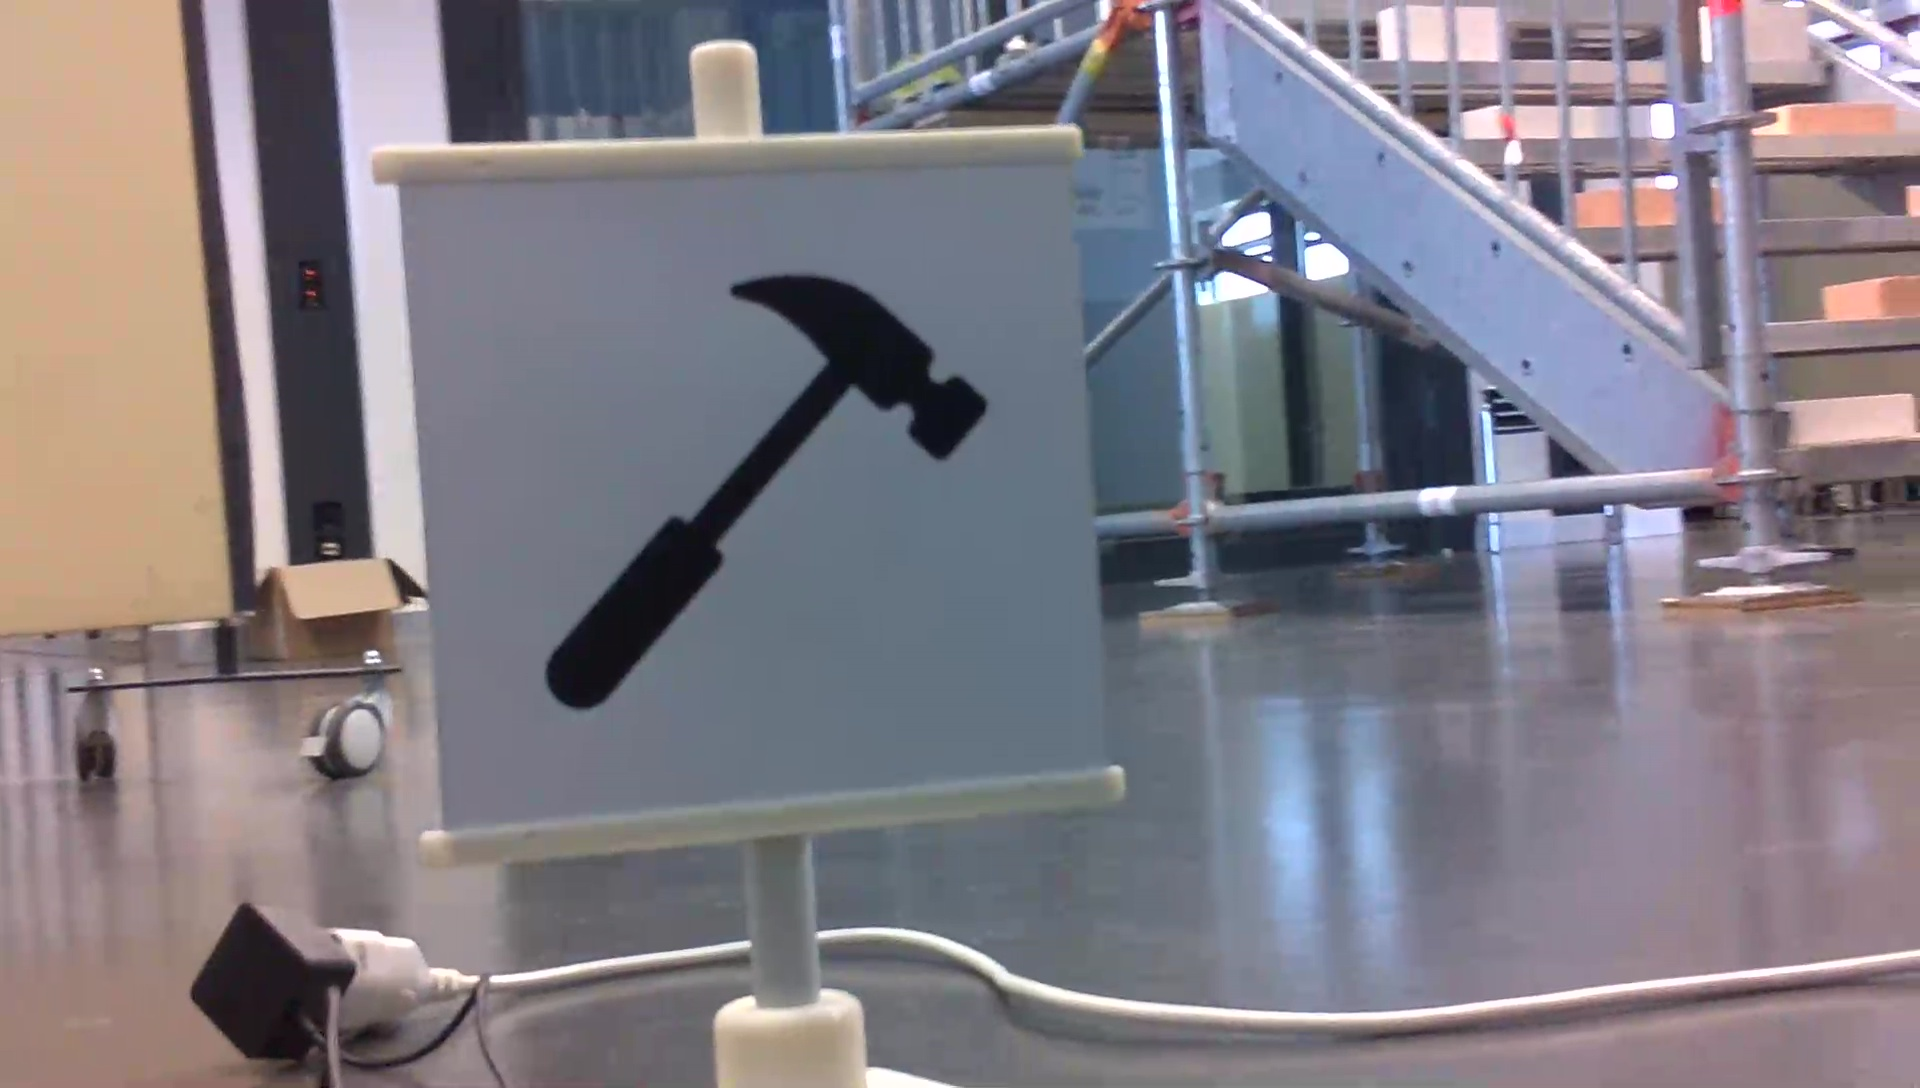brick: (1793, 398, 1909, 440), (1770, 106, 1895, 137), (1825, 274, 1920, 315), (1745, 7, 1808, 61)
hammer: (527, 266, 996, 717)
